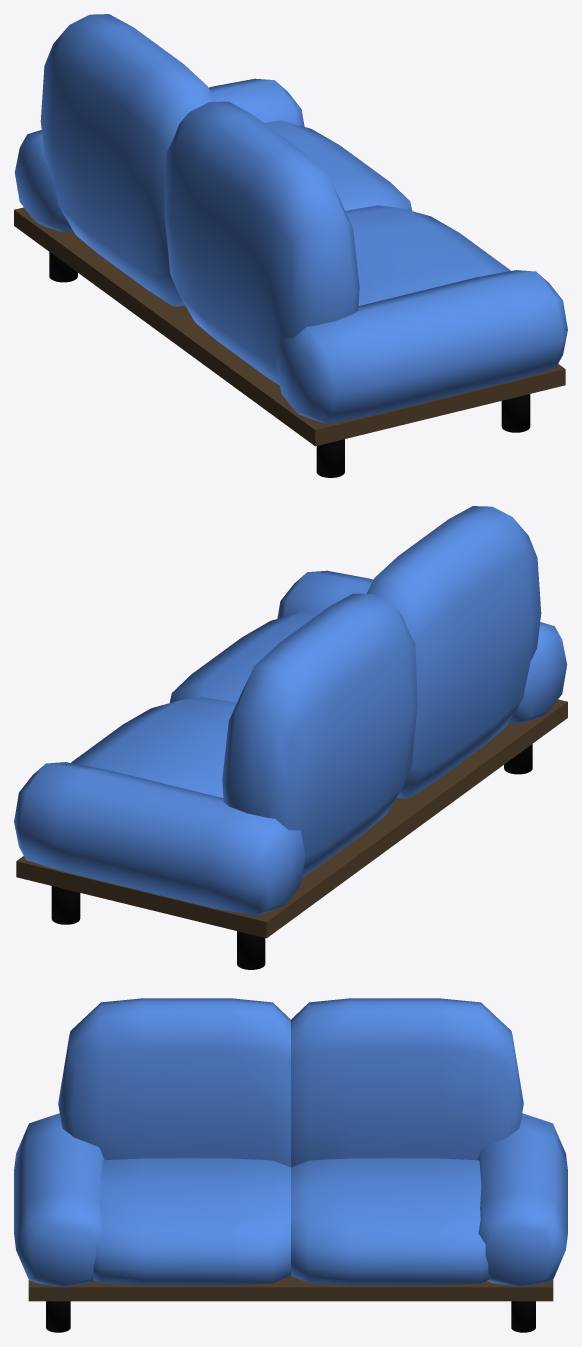
Rendered from divan.fbx.
3 views of the same model, one above another, from view 1: azimuth 30°, elevation 25°; view 2: azimuth 150°, elevation 25°; view 3: azimuth 270°, elevation 25° (orthographic). The views are drawn at different scales.
Parts seen in each view (by area): view 1: divan; view 2: divan; view 3: divan.
Boxes of the visible parts, x1,y1,x2,y2 form: divan: [14, 14, 567, 477]; divan: [14, 506, 567, 969]; divan: [14, 998, 567, 1332].
Bounding box in the file's own units: 399 × 401 × 814.
